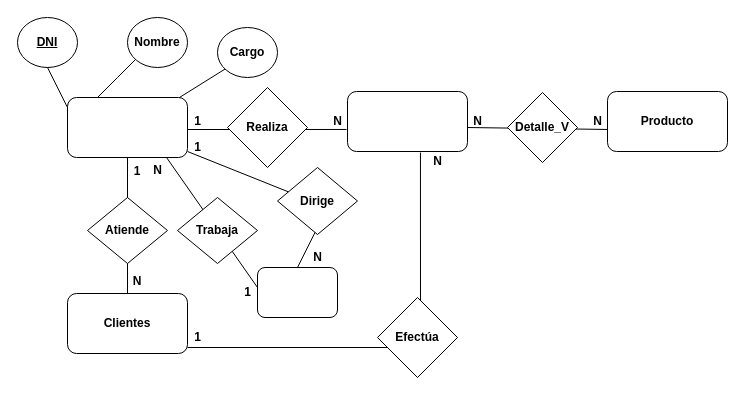
The diagram is 745 pixels wide and 395 high, and some of its shapes have lost their labels. Here are the shapes that lost their labels. From the top down, the centre of each, then its label:
At point 127,127: "Vendedor".
At point 407,121: "Ventas".
At point 297,292: "Sucursal".
